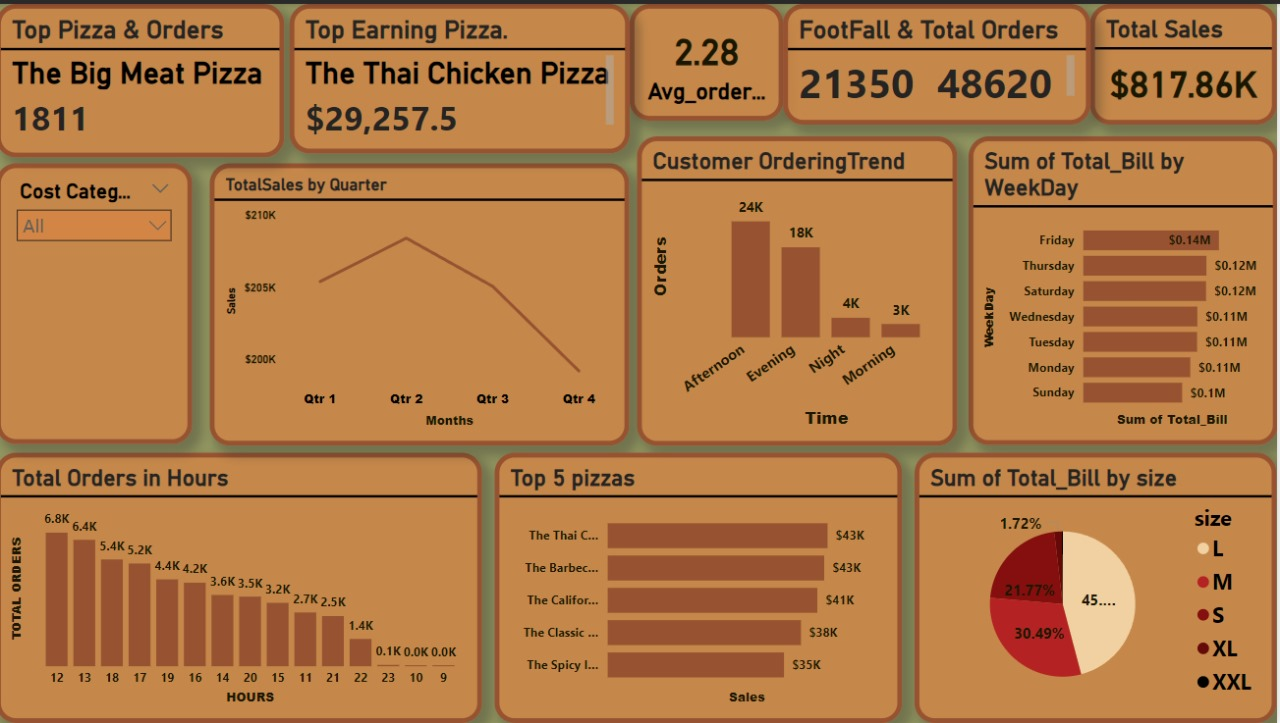

This screenshot's page, from the dashboard's own definition file:
{"tool":"powerbi","page":{"name":"Page 1","canvas":[1280,720],"ordinal":0},"visuals":[{"type":"card","title":"Total Sales","fields":{"Values":["orders_details.TotalSales"]},"box":[1093.9,0,186.4,120.6],"z":0},{"type":"clusteredColumnChart","title":"Total Orders in Hours","fields":{"Category":["orders.Hours"],"Y":["Sum(orders_details.quantity)"]},"box":[0,449.6,485.2,270],"z":1000},{"type":"barChart","fields":{"Y":["Sum(orders_details.Total_Bill)"],"Category":["orders.WeekDay"]},"box":[971.9,133,308.4,308.4],"z":2000},{"type":"card","title":"Average_order/Person","fields":{"Values":["orders.Avg_order_per_person"]},"box":[633.3,0,153.5,116.5],"z":3000},{"type":"multiRowCard","title":"FootFall & Total Orders","fields":{"Values":["orders.footfall","orders.totalorder"]},"box":[786.8,0,307,120.6],"z":4000},{"type":"lineChart","fields":{"Y":["orders_details.TotalSales"],"Category":["orders.date.Variation.Date Hierarchy.Quarter"]},"box":[213.8,159,419.4,282.4],"z":5000},{"type":"multiRowCard","title":"Top Pizza & Orders","fields":{"Values":["orders.MostOrderedPizza","orders.MostOrderedPizzaTotalOrders"]},"box":[0,0,287.9,153.5],"z":6000},{"type":"multiRowCard","title":"Top Earning Pizza.","fields":{"Values":["orders.MostRevenueGeneratingPizza","orders.MostRevenueGeneratingPizzaSales"]},"box":[293.3,0,339.9,149.4],"z":7000},{"type":"clusteredColumnChart","title":"Customer OrderingTrend","fields":{"Category":["orders.TimeOfDayCategory"],"Y":["orders.totalorder"]},"box":[640.1,133,320.8,308.4],"z":8000},{"type":"barChart","title":"Top 5 pizzas","fields":{"Category":["pizza_types.name"],"Y":["Sum(orders_details.Total_Bill)"]},"box":[497.6,449.6,407.1,270],"z":9000},{"type":"pieChart","fields":{"Category":["pizzas.size"],"Y":["Sum(orders_details.Total_Bill)"]},"box":[918.4,449.6,361.9,270],"z":10000},{"type":"slicer","fields":{"Values":["pizzas.Cost_classification"]},"box":[0,159,214,282],"z":11000}]}

Visuals, with their boxes in screenshot pixels (x1, y1, x2, y2), scaled from the page's 1280x720 canvas onto the 1280x723 screenshot:
"Total Sales" card: [1094, 0, 1279, 121]
"Total Orders in Hours" clusteredColumnChart: [0, 451, 485, 722]
barChart - Sum(orders_details.Total_Bill) x orders.WeekDay: [972, 134, 1279, 443]
"Average_order/Person" card: [633, 0, 787, 117]
"FootFall & Total Orders" multiRowCard: [787, 0, 1094, 121]
lineChart - orders_details.TotalSales x orders.date.Variation.Date Hierarchy.Quarter: [214, 160, 633, 443]
"Top Pizza & Orders" multiRowCard: [0, 0, 288, 154]
"Top Earning Pizza." multiRowCard: [293, 0, 633, 150]
"Customer OrderingTrend" clusteredColumnChart: [640, 134, 961, 443]
"Top 5 pizzas" barChart: [498, 451, 905, 722]
pieChart - pizzas.size x Sum(orders_details.Total_Bill): [918, 451, 1279, 722]
slicer - pizzas.Cost_classification: [0, 160, 214, 443]
